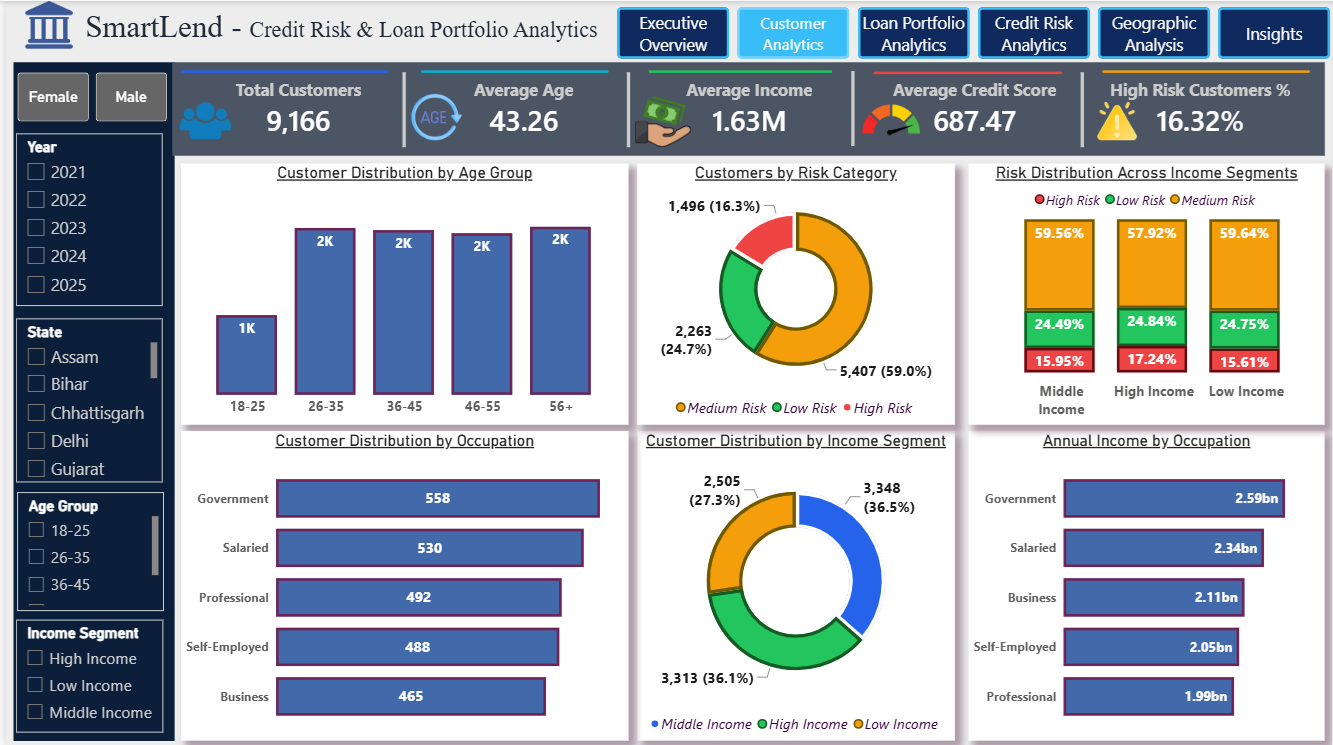

The page's visual inventory and layout, read from the dashboard file:
{"tool":"powerbi","page":{"name":"Customer Analytics","canvas":[1600,900],"ordinal":1},"visuals":[{"type":"shape","box":[9,73.9,194.5,818.9],"z":0},{"type":"shape","box":[200.6,73.9,1390.4,113.1],"z":1000},{"type":"cardVisual","fields":{"Data":["00_Measures.Totlal Customers","00_Measures.Average Age","00_Measures.Average Income","00_Measures.Average Credit Score","00_Measures.High Risk Customers %"]},"box":[203.1,81.2,1387.5,96.9],"z":2000},{"type":"shape","box":[455.4,86,49.8,90.5],"z":3000},{"type":"donutChart","title":"Customer Distribution by Income Segment","fields":{"Category":["SmartLend_Final_Analytics_Dataset.income_segment"],"Y":["00_Measures.Customer Count"]},"box":[761.6,518.8,383,374],"z":4000},{"type":"clusteredColumnChart","title":"Customer Distribution by Age Group","fields":{"Category":["SmartLend_Final_Analytics_Dataset.age_group"],"Y":["00_Measures.Customer Count"]},"box":[211.1,196,539.9,315.2],"z":5000},{"type":"donutChart","title":"Customers by Risk Category","fields":{"Category":["SmartLend_Final_Analytics_Dataset.risk_category"],"Y":["00_Measures.Customer Count"]},"box":[761.6,196,383,315.2],"z":6000},{"type":"slicer","fields":{"Values":["SmartLend_Final_Analytics_Dataset.loan_issue_date.Variation.Date Hierarchy.Year"]},"box":[12.1,159.9,176.4,208.1],"z":7000},{"type":"clusteredBarChart","title":"Customer Distribution by Occupation","fields":{"Category":["SmartLend_Final_Analytics_Dataset.occupation"],"Y":["00_Measures.Customer Count"]},"box":[211.1,518.8,539.9,374],"z":8000},{"type":"slicer","fields":{"Values":["SmartLend_Final_Analytics_Dataset.state"]},"box":[12.1,383,176.4,197.6],"z":9000},{"type":"slicer","fields":{"Values":["SmartLend_Final_Analytics_Dataset.income_segment"]},"box":[12.1,746.5,177.9,135.7],"z":10000},{"type":"slicer","fields":{"Values":["SmartLend_Final_Analytics_Dataset.age_group"]},"box":[13.6,592.7,176.4,143.3],"z":11000},{"type":"shape","box":[1274.3,86,48.3,90.5],"z":12000},{"type":"shape","box":[996.8,84.5,49.8,90.5],"z":13000},{"type":"shape","box":[726.9,86,48.3,90.5],"z":14000},{"type":"image","box":[13.6,0,76.9,57.3],"z":15000},{"type":"image","box":[481.1,110.1,76.9,60.3],"z":16000},{"type":"image","box":[200.6,108.6,79.9,67.9],"z":17000},{"type":"image","box":[726.9,114.6,131.2,61.8],"z":18000},{"type":"image","box":[1298.4,116.1,84.5,61.8],"z":19000},{"type":"image","box":[1033,102.5,69.4,81.4],"z":20000},{"type":"shape","box":[211.1,73.9,250.3,22.6],"z":21000},{"type":"shape","box":[500.7,73.9,226.2,22.6],"z":22000},{"type":"shape","box":[1046.6,75.4,227.7,22.6],"z":23000},{"type":"shape","box":[775.1,73.9,221.7,22.6],"z":24000},{"type":"shape","box":[1322.6,73.9,250.3,22.6],"z":25000},{"type":"advancedSlicerVisual","fields":{"Values":["SmartLend_Final_Analytics_Dataset.gender"]},"box":[9,81.4,191.5,69.4],"z":26000},{"type":"clusteredBarChart","title":"Annual Income by Occupation","fields":{"Y":["Sum(SmartLend_Final_Analytics_Dataset.annual_income)"],"Category":["SmartLend_Final_Analytics_Dataset.occupation"]},"box":[1161.2,518.8,429.8,374],"z":27000},{"type":"hundredPercentStackedColumnChart","title":"Risk Distribution Across Income Segments","fields":{"Category":["SmartLend_Final_Analytics_Dataset.income_segment"],"Series":["SmartLend_Final_Analytics_Dataset.risk_category"],"Y":["00_Measures.Customer Count"]},"box":[1161.2,196,429.8,315.2],"z":28000},{"type":"textbox","box":[90.5,0,636.4,73.9],"z":29000},{"type":"pageNavigator","box":[737.4,7.5,862.6,62],"z":30000}]}

Visuals, with their boxes in screenshot pixels (x1, y1, x2, y2), scaled from the page's 1600x900 canvas onto the 1333x745 screenshot:
shape: 7:61:170:739
shape: 167:61:1326:155
cardVisual - 00_Measures.Totlal Customers x 00_Measures.Average Age: 169:67:1325:147
shape: 379:71:421:146
"Customer Distribution by Income Segment" donutChart: 635:429:954:739
"Customer Distribution by Age Group" clusteredColumnChart: 176:162:626:423
"Customers by Risk Category" donutChart: 635:162:954:423
slicer - SmartLend_Final_Analytics_Dataset.loan_issue_date.Variation.Date Hierarchy.Year: 10:132:157:305
"Customer Distribution by Occupation" clusteredBarChart: 176:429:626:739
slicer - SmartLend_Final_Analytics_Dataset.state: 10:317:157:481
slicer - SmartLend_Final_Analytics_Dataset.income_segment: 10:618:158:730
slicer - SmartLend_Final_Analytics_Dataset.age_group: 11:491:158:609
shape: 1062:71:1102:146
shape: 830:70:872:145
shape: 606:71:646:146
image: 11:0:75:47
image: 401:91:465:141
image: 167:90:234:146
image: 606:95:715:146
image: 1082:96:1152:147
image: 861:85:918:152
shape: 176:61:384:80
shape: 417:61:606:80
shape: 872:62:1062:81
shape: 646:61:830:80
shape: 1102:61:1310:80
advancedSlicerVisual - SmartLend_Final_Analytics_Dataset.gender: 7:67:167:125
"Annual Income by Occupation" clusteredBarChart: 967:429:1326:739
"Risk Distribution Across Income Segments" hundredPercentStackedColumnChart: 967:162:1326:423
textbox: 75:0:606:61
pageNavigator: 614:6:1332:58
